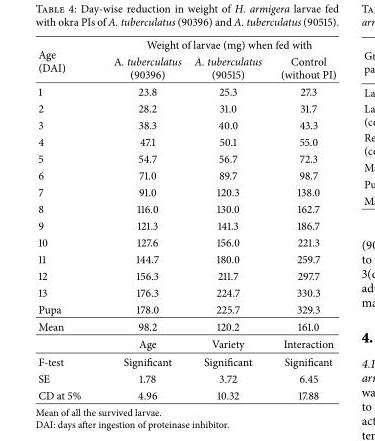table: (37, 36, 335, 402)
table column: (96, 36, 187, 402), (187, 36, 270, 402), (270, 36, 335, 402), (37, 36, 96, 402)
table column header: (37, 36, 335, 82)
table row: (37, 52, 335, 82), (37, 334, 335, 352), (37, 82, 335, 99), (37, 99, 335, 116), (37, 116, 335, 133), (37, 149, 335, 166), (37, 166, 335, 183), (37, 183, 335, 200), (37, 216, 335, 233), (37, 233, 335, 250), (37, 266, 335, 283), (37, 283, 335, 300), (37, 300, 335, 317), (37, 317, 335, 334), (37, 352, 335, 369), (37, 369, 335, 386), (37, 36, 335, 52), (37, 133, 335, 149), (37, 200, 335, 216), (37, 250, 335, 266), (37, 386, 335, 402)
table spanning cell: (96, 36, 335, 52), (37, 36, 96, 82), (37, 317, 96, 352)
